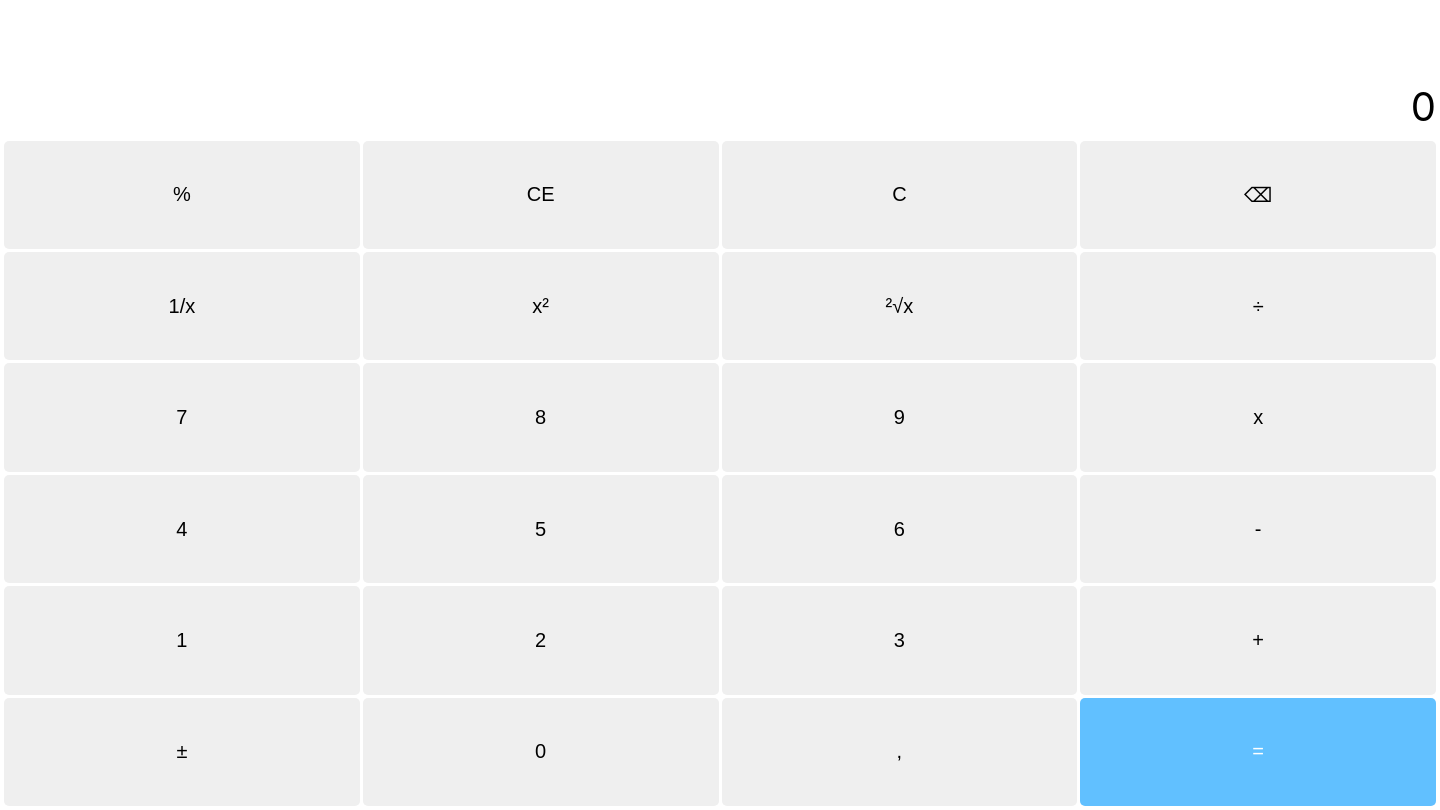
Test case: Calculator component › power and root
Click the button with test id "key-3".
click(899, 640)  # box [722,586,1077,695]
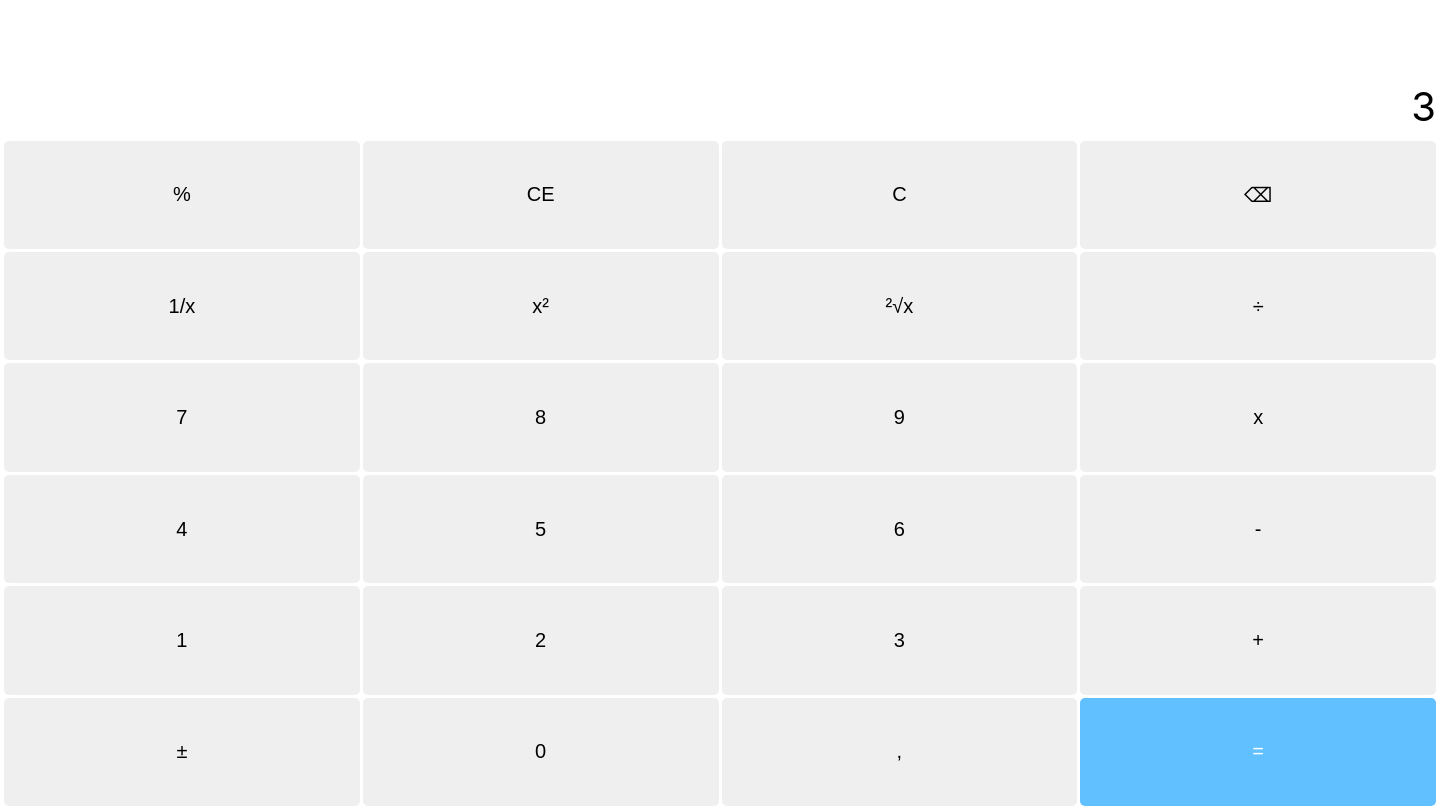
Click the button with test id "key-power".
click(541, 306)  # box [363,252,719,360]
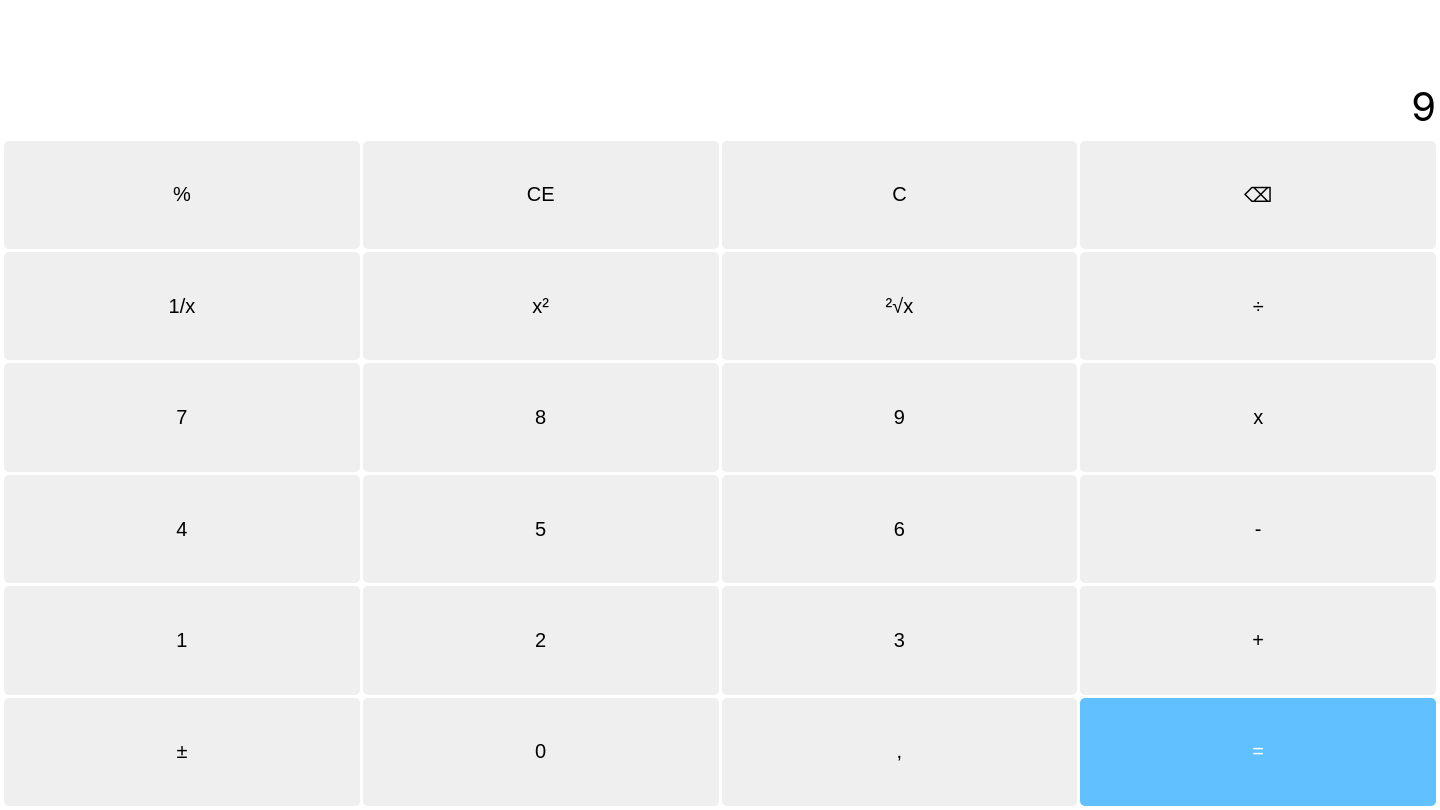
Check: the text with test id "main-display" reads "9", box [1411,82,1436,131]
Click the button with test id "key-power".
click(541, 306)  # box [363,252,719,360]
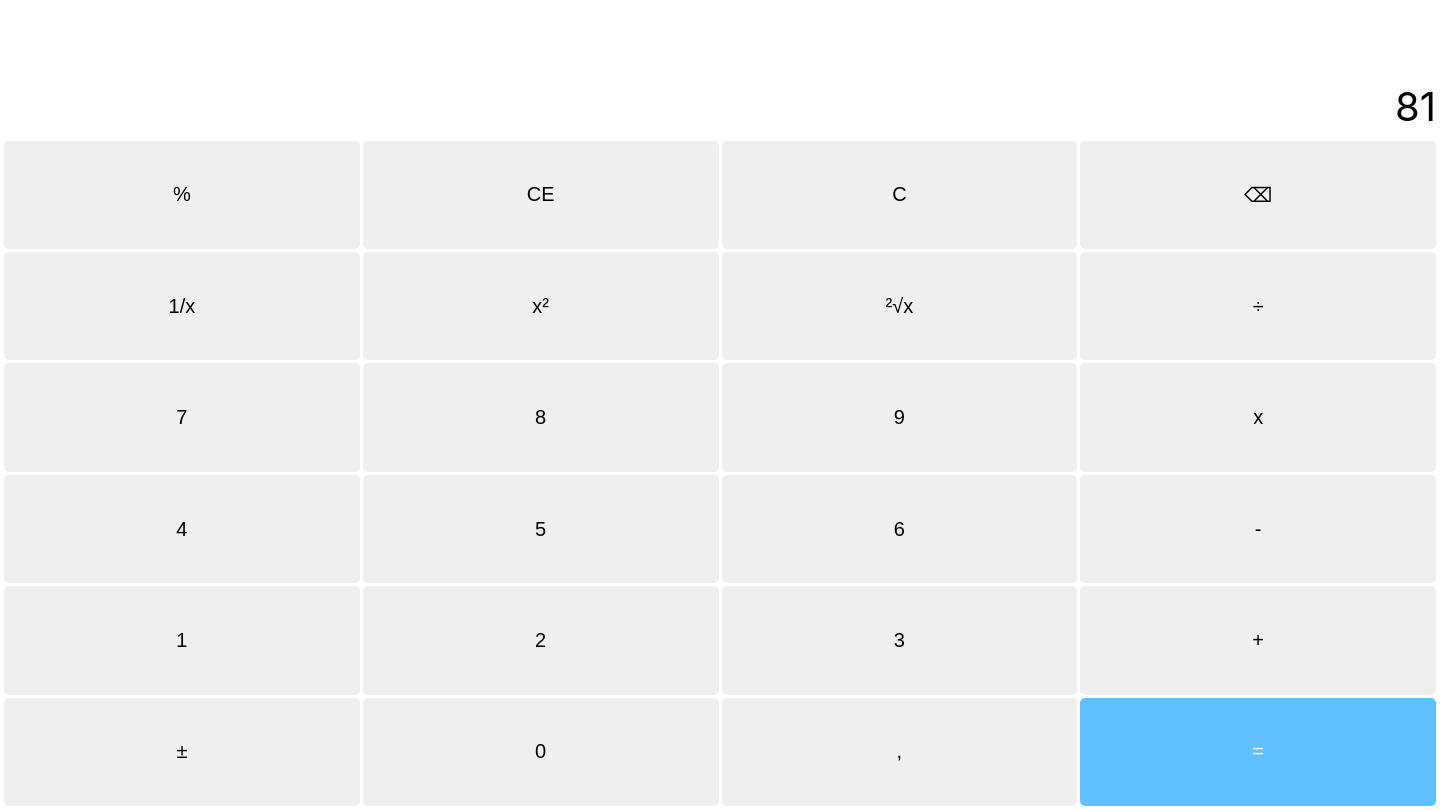
Check: the text with test id "main-display" reads "81", box [1395,82,1436,131]
Click the button with test id "key-root".
click(899, 306)  # box [722,252,1077,360]
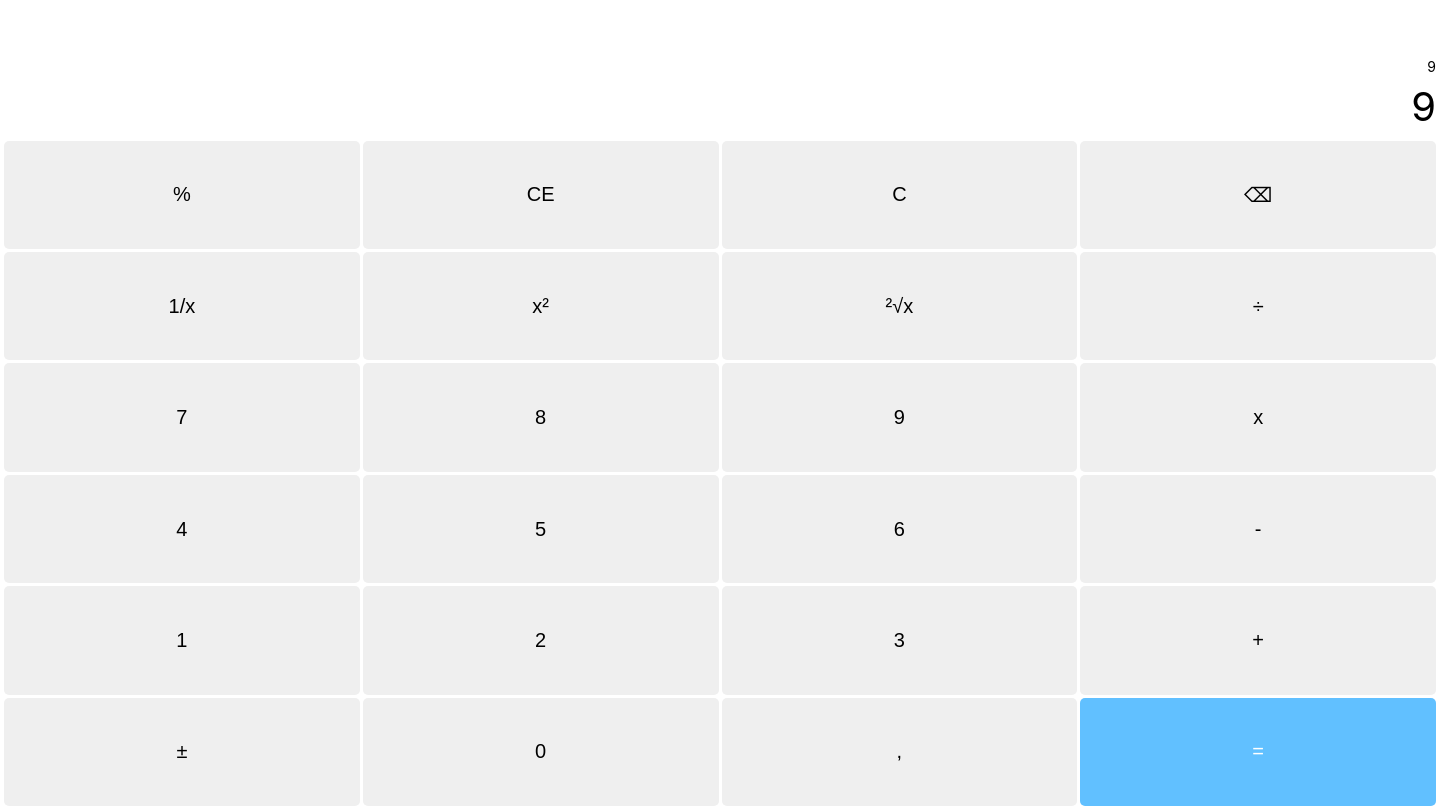
Check: the text with test id "main-display" reads "9", box [1411,82,1436,131]
Click the button with test id "key-root".
click(899, 306)  # box [722,252,1077,360]
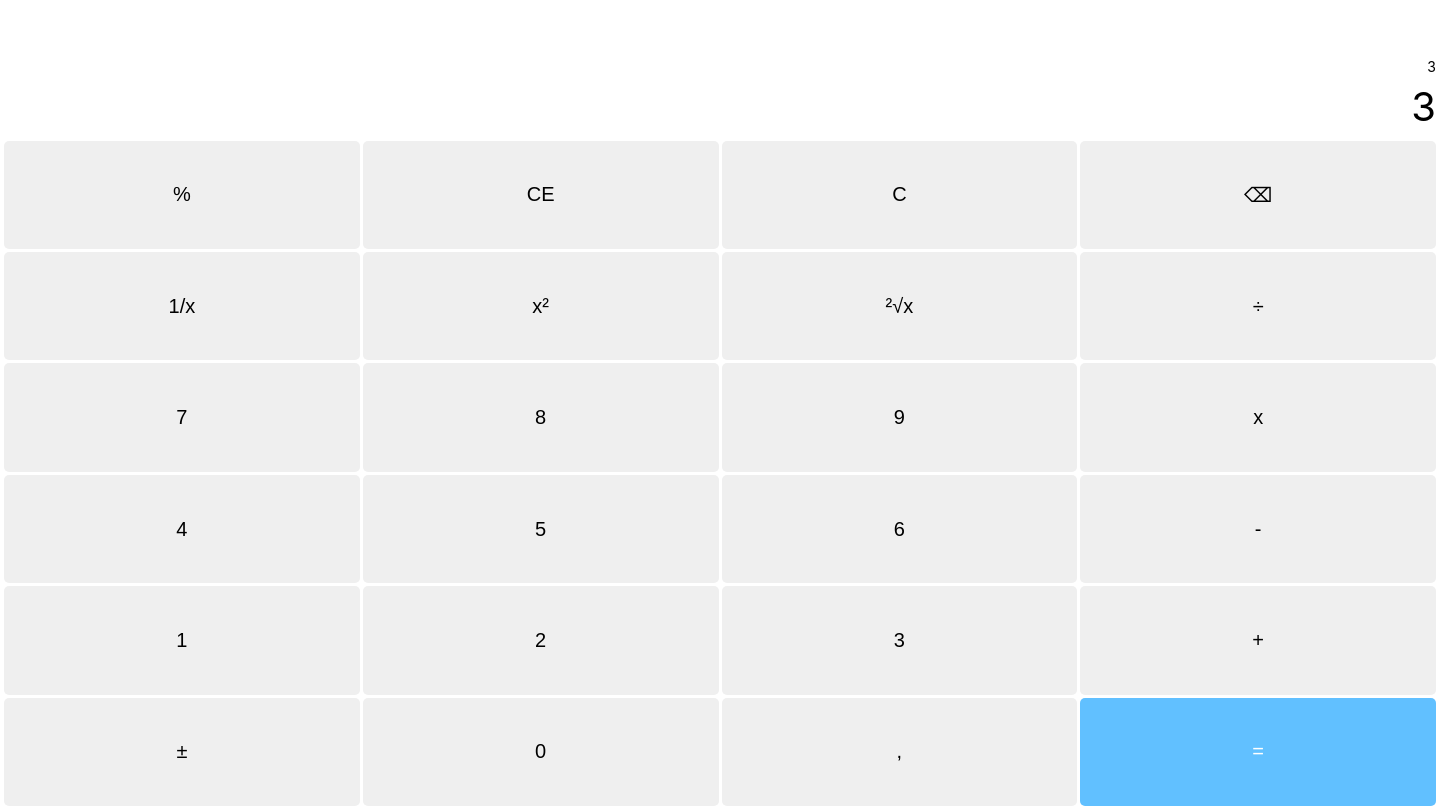
Check: the text with test id "main-display" reads "3", box [1411,82,1436,131]
